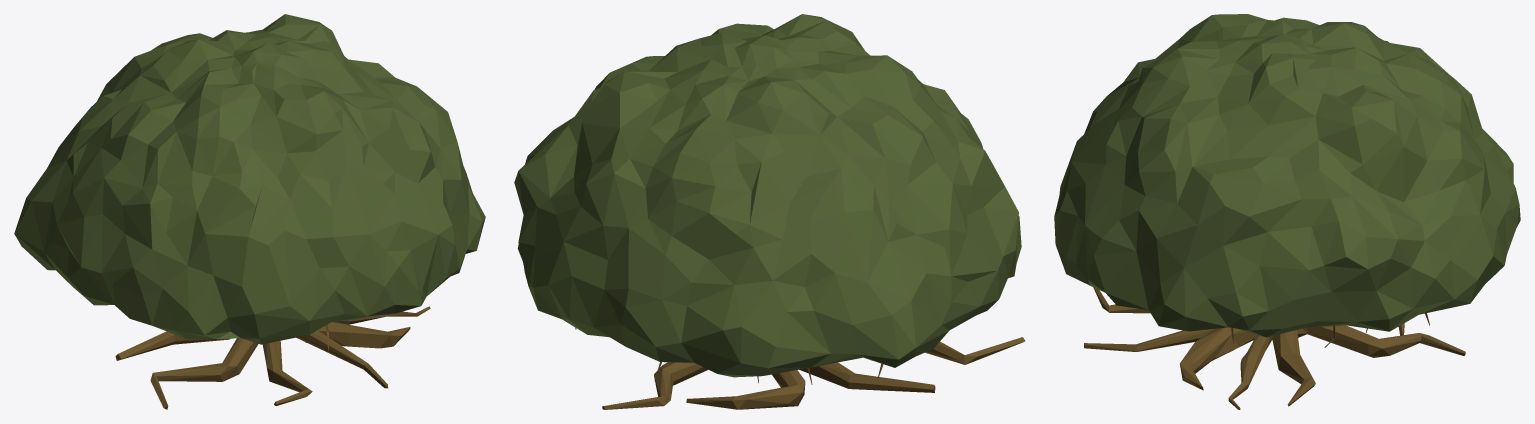
Rendered from delh_foli_03.fbx.
The picture shows the model from 3 angles, left to right: view 1: azimuth 30°, elevation 25°; view 2: azimuth 150°, elevation 25°; view 3: azimuth 270°, elevation 25°; orthographic projection. The views are drawn at different scales.
Visible parts, largest first — view 1: delh_foli_03; view 2: delh_foli_03; view 3: delh_foli_03.
Part boxes in pixels (box(x1,y1,x2,y2)): delh_foli_03: box(14, 14, 485, 409); delh_foli_03: box(514, 14, 1025, 409); delh_foli_03: box(1054, 14, 1520, 409).
Size of the model in its own units: 3797 by 2704 by 3793.
